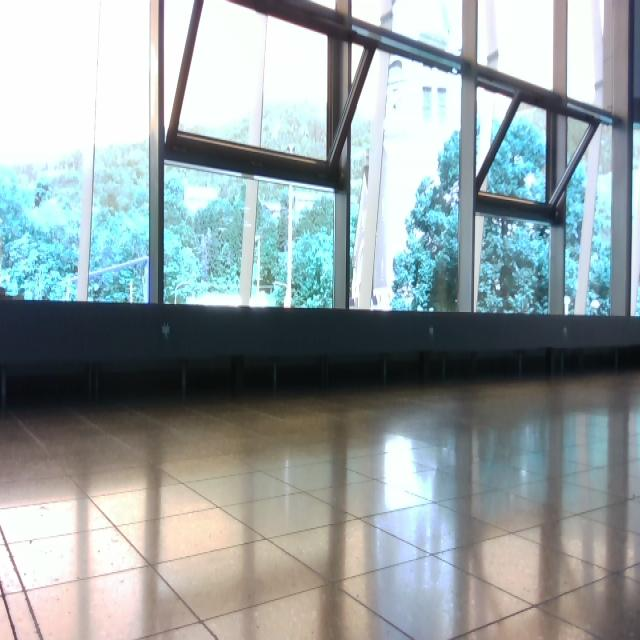door: (2, 1, 639, 638)
light bulb: (184, 184, 218, 214), (524, 172, 535, 189), (591, 300, 601, 309), (564, 296, 571, 305)
tiled floor: (2, 371, 639, 639)
window: (1, 1, 640, 318)
